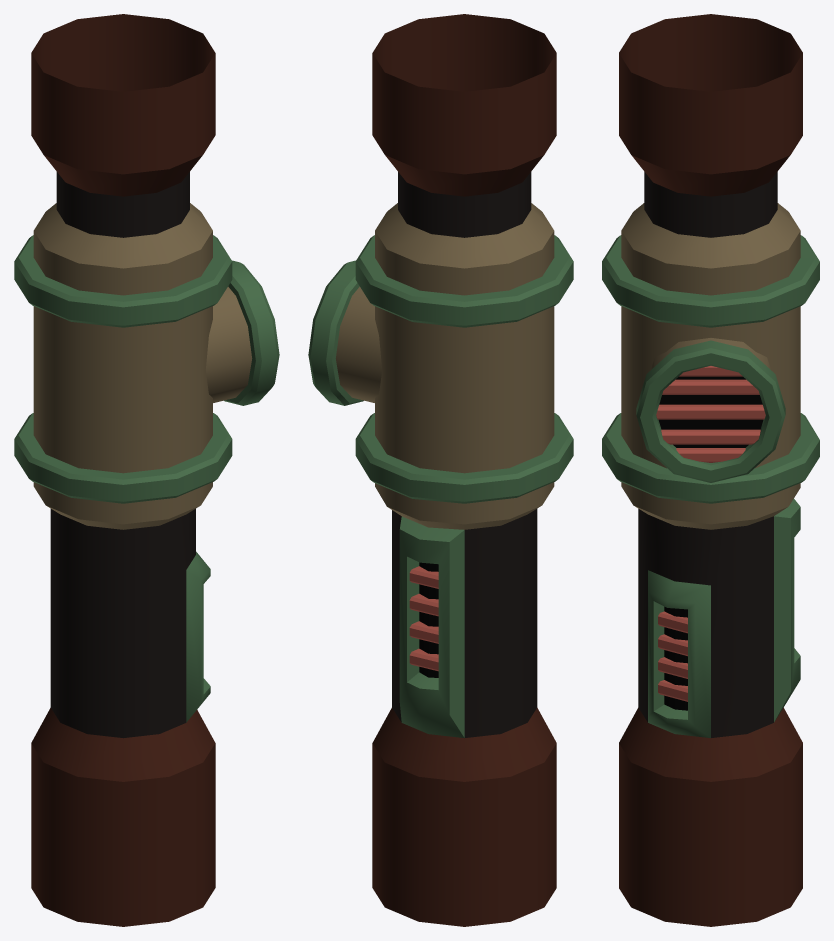
The model's file is OBJ_VAR_3_Tuyau_1_LOD.fbx.
3 views of the same model, side by side, from view 1: azimuth 30°, elevation 25°; view 2: azimuth 150°, elevation 25°; view 3: azimuth 270°, elevation 25° (orthographic).
Parts seen in each view (by area): view 1: OBJ_VAR_3_Tuyau_1_LOD; view 2: OBJ_VAR_3_Tuyau_1_LOD; view 3: OBJ_VAR_3_Tuyau_1_LOD.
Part boxes in pixels (left/top/right/bottom): OBJ_VAR_3_Tuyau_1_LOD: left=14, top=14, right=279, bottom=926; OBJ_VAR_3_Tuyau_1_LOD: left=308, top=14, right=573, bottom=926; OBJ_VAR_3_Tuyau_1_LOD: left=602, top=14, right=819, bottom=926.
Bounding box in the file's own units: 1618 × 6000 × 1419.
